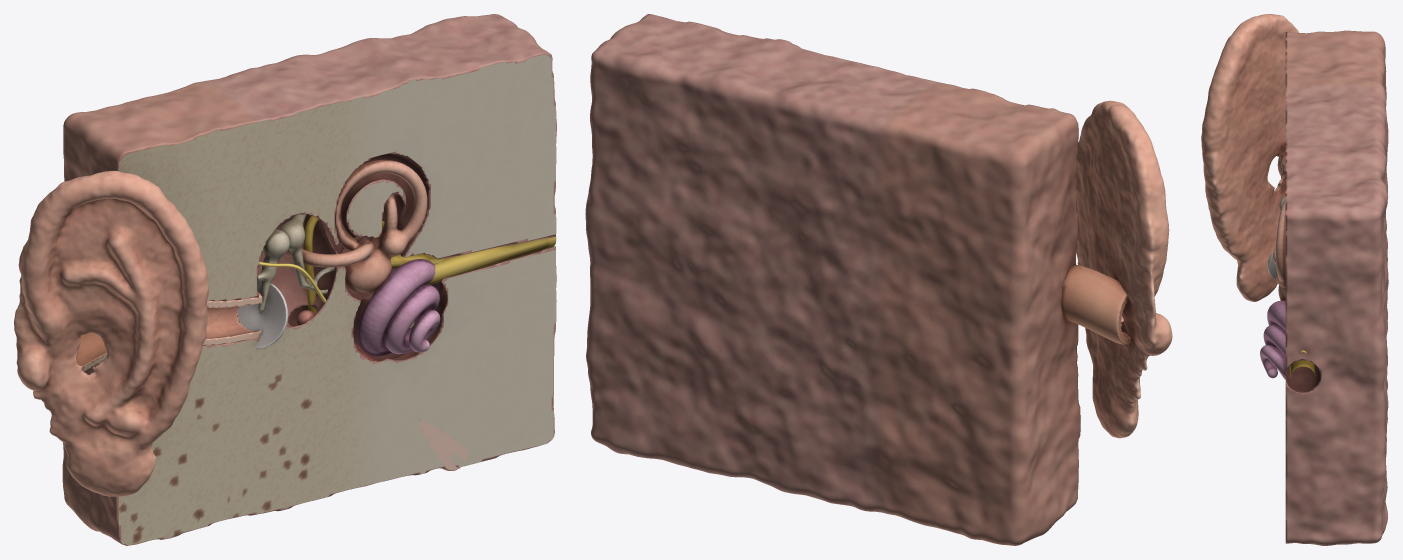
File: ear.8c2b5702.glb
3 views of the same model, side by side, from view 1: azimuth 30°, elevation 25°; view 2: azimuth 150°, elevation 25°; view 3: azimuth 270°, elevation 25° (orthographic). The views are drawn at different scales.
Parts seen in each view (by area): view 1: Temporal bone, Auricle, Vestibule and semicircular canals, Cochlea, Cranial nerves VII and VIII, Ear canal, Tympanic membrane, Auditory tube, Malleus, Incus; view 2: Temporal bone, Auricle, Ear canal; view 3: Temporal bone, Auricle, Cochlea, Vestibule and semicircular canals.
Part boxes in pixels (x1=…): Temporal bone: x1=62, y1=14, x2=556, y2=545; Auricle: x1=14, y1=170, x2=208, y2=496; Vestibule and semicircular canals: x1=287, y1=159, x2=427, y2=293; Cochlea: x1=356, y1=259, x2=440, y2=356; Cranial nerves VII and VIII: x1=259, y1=215, x2=556, y2=313; Ear canal: x1=76, y1=292, x2=262, y2=371; Tympanic membrane: x1=237, y1=279, x2=287, y2=348; Auditory tube: x1=296, y1=310, x2=466, y2=470; Malleus: x1=257, y1=229, x2=289, y2=311; Incus: x1=279, y1=214, x2=311, y2=288; Temporal bone: x1=585, y1=14, x2=1080, y2=545; Auricle: x1=1075, y1=100, x2=1172, y2=438; Ear canal: x1=1061, y1=264, x2=1130, y2=344; Temporal bone: x1=1285, y1=30, x2=1388, y2=545; Auricle: x1=1201, y1=14, x2=1298, y2=301; Cochlea: x1=1260, y1=300, x2=1285, y2=379; Vestibule and semicircular canals: x1=1273, y1=199, x2=1285, y2=300.
Size of the model in its own units: 2.99 by 2.15 by 1.06.
